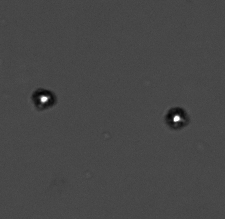Living Cell: (165, 107, 190, 130), (32, 89, 56, 109)
